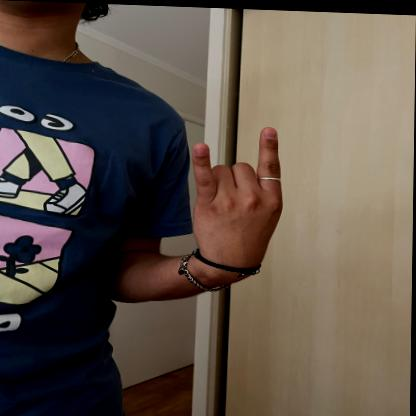U: (182, 118, 288, 270)
